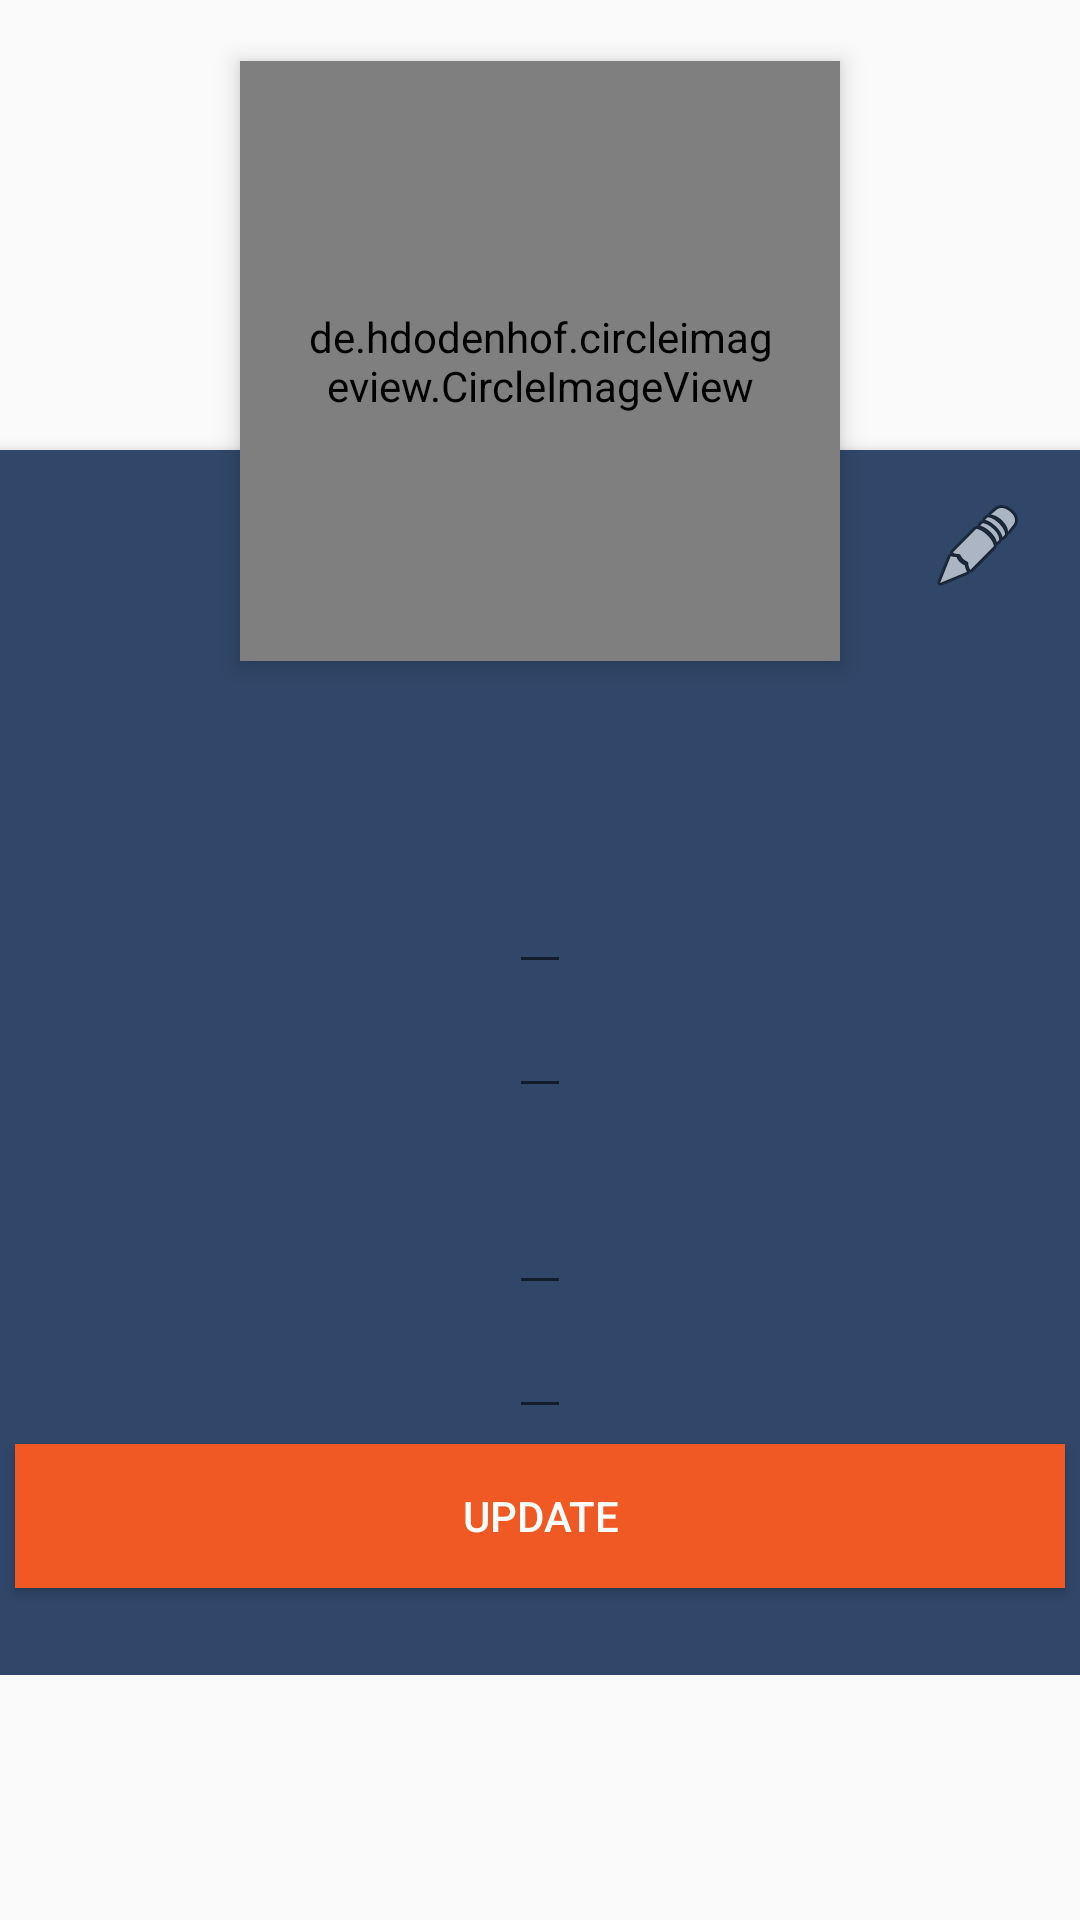

Icons on this 1080 × 1920 Android screen, each with the point to tap as (x,y):
edit: (977,545)
